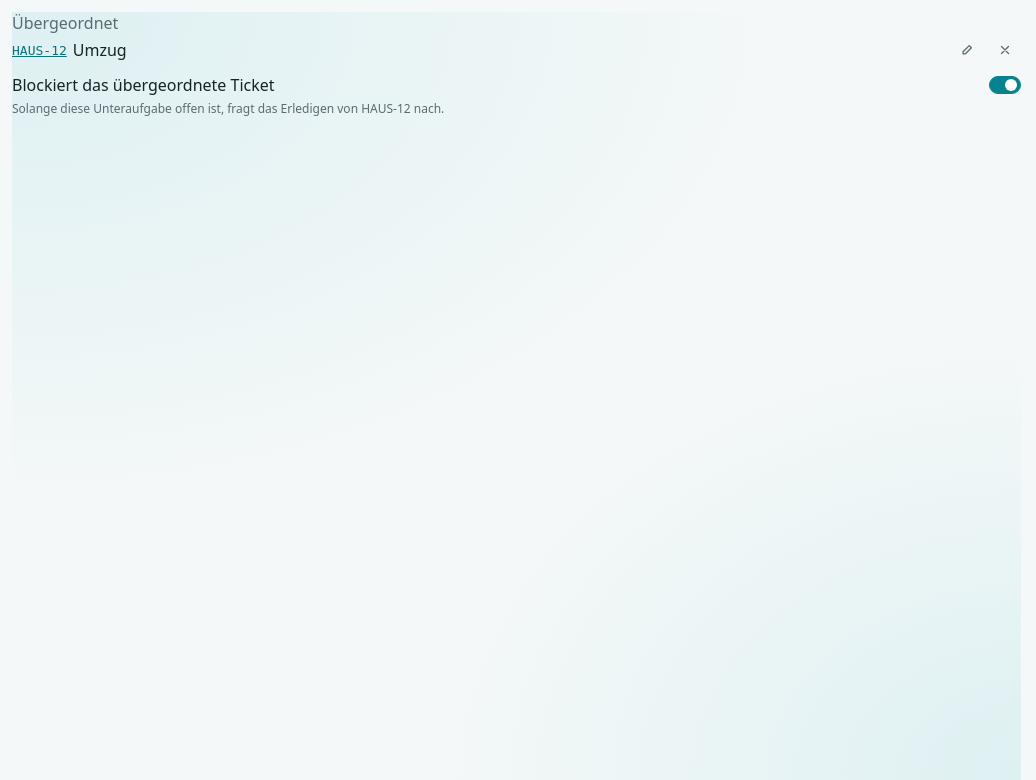
Scenario: row "Übergeordnet" › greys the current parent when changing it
Click the button named "Übergeordnetes Ticket ändern" at (967, 50), box [951,34,983,66]
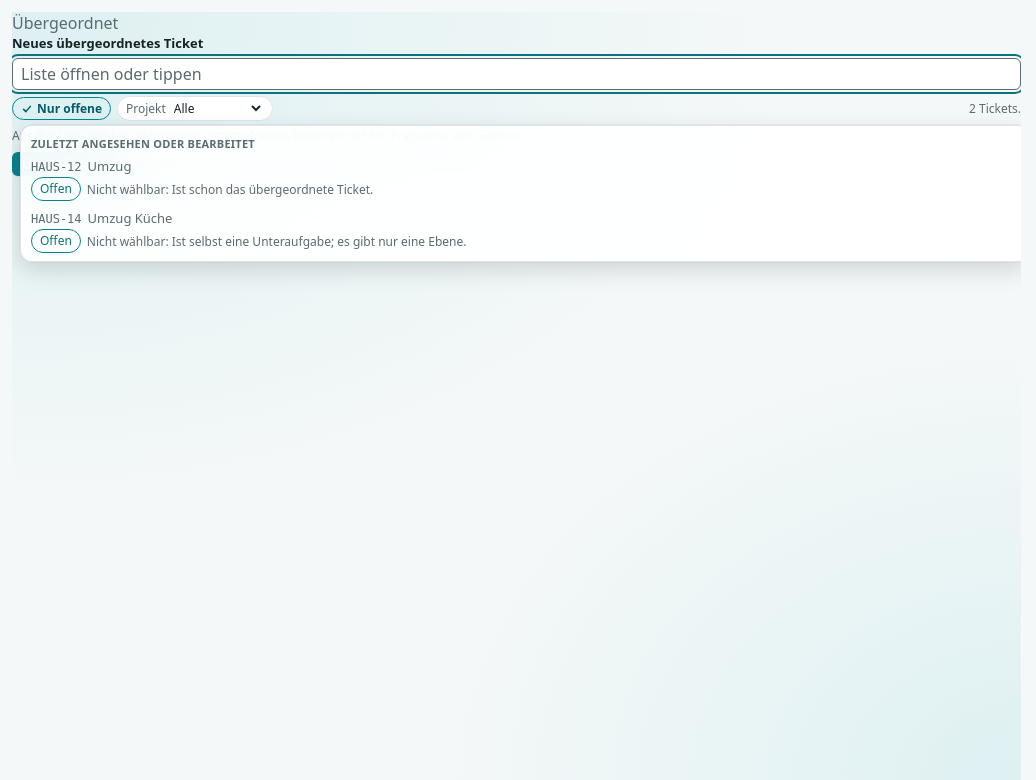
Now the option that starts with "HAUS-12" shows "Ist schon das übergeordnete Ticket.", box [31,157,373,201]
